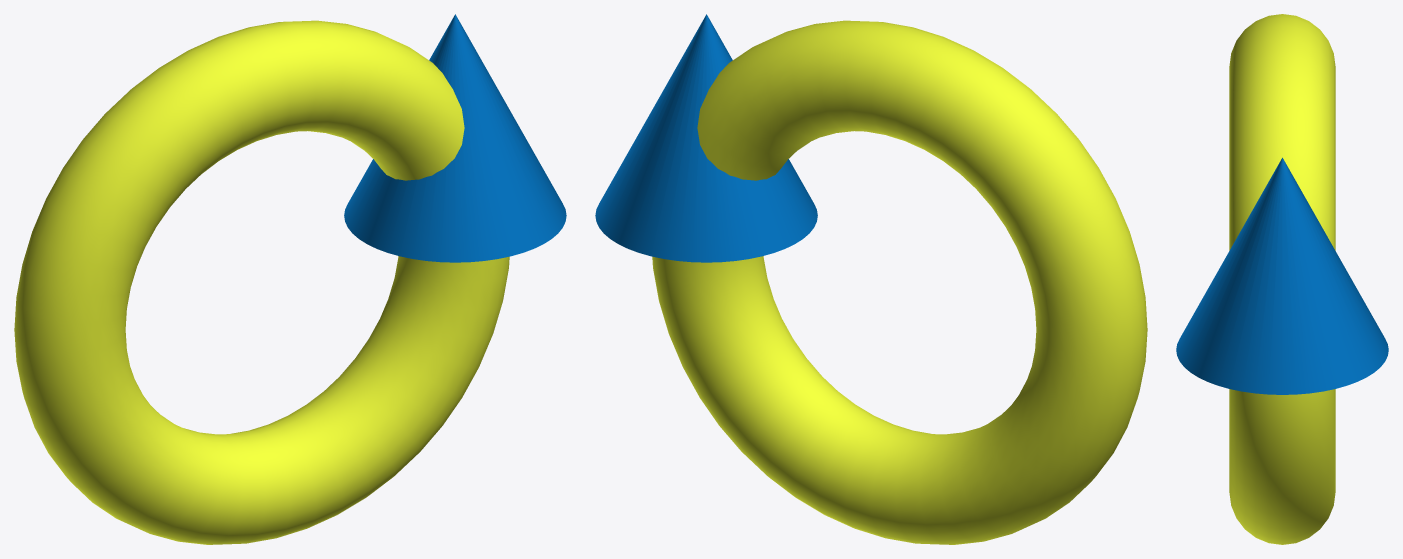
File: arrow_up_circle.dae
The picture shows the model from 3 angles, left to right: view 1: azimuth 30°, elevation 25°; view 2: azimuth 150°, elevation 25°; view 3: azimuth 270°, elevation 25°; orthographic projection. The views are drawn at different scales.
Visible parts, largest first — view 1: torus, cone; view 2: torus, cone; view 3: torus, cone.
Boxes of the visible parts, x1,y1,x2,y2 form: torus: (14,20,509,544); cone: (344,14,566,262); torus: (652,20,1147,544); cone: (595,14,817,262); torus: (1229,14,1335,544); cone: (1176,157,1388,394).
Bounding box in the file's own units: 1.37 × 1.25 × 0.5.
